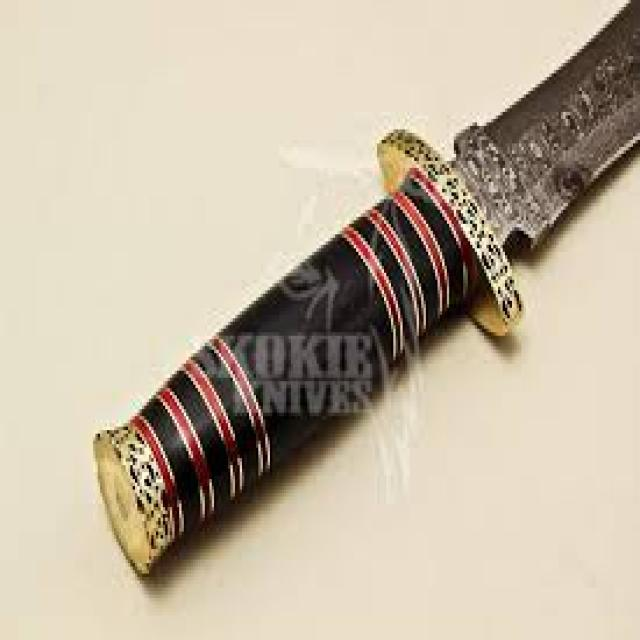Gun: (28, 0, 640, 546)
